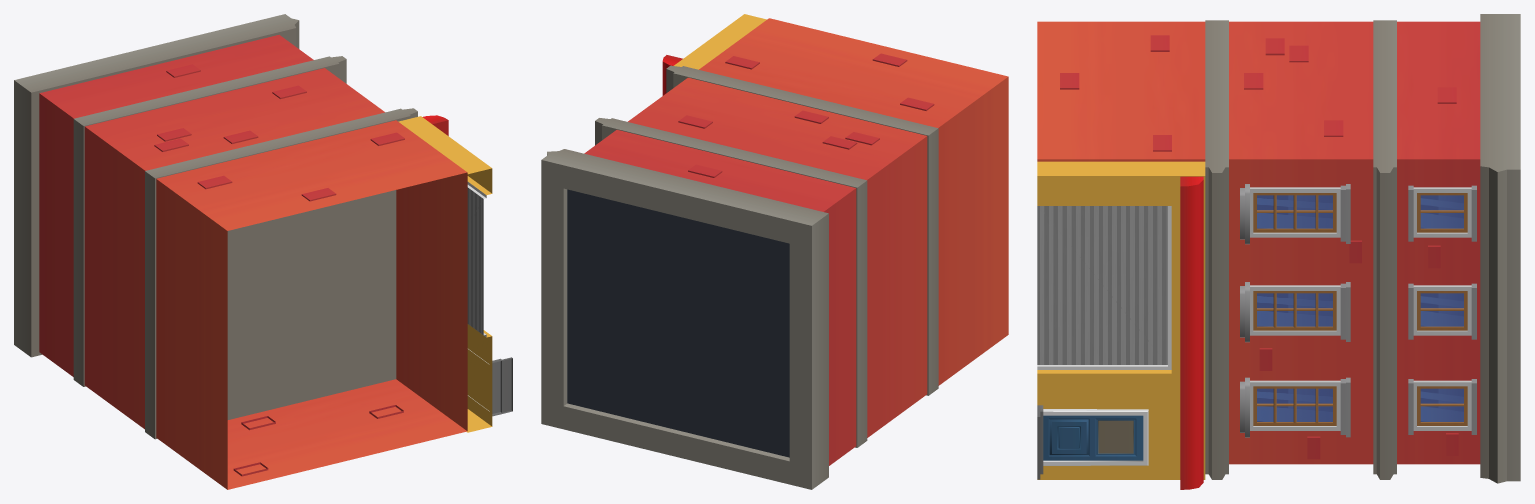
File: Building_19_2_B.glb
The picture shows the model from 3 angles, left to right: view 1: azimuth 30°, elevation 25°; view 2: azimuth 150°, elevation 25°; view 3: azimuth 270°, elevation 25°; orthographic projection. The views are drawn at different scales.
Parts seen in each view (by area): view 1: Building_19_2_B; view 2: Building_19_2_B; view 3: Building_19_2_B.
Part boxes in pixels (x1,y1,x2,y2): Building_19_2_B: (14, 14, 512, 489); Building_19_2_B: (541, 14, 1008, 489); Building_19_2_B: (1037, 14, 1520, 489).
Size of the model in its own units: 7.74 by 6.67 by 9.38.
Materials: 3 (3 with a texture image).
